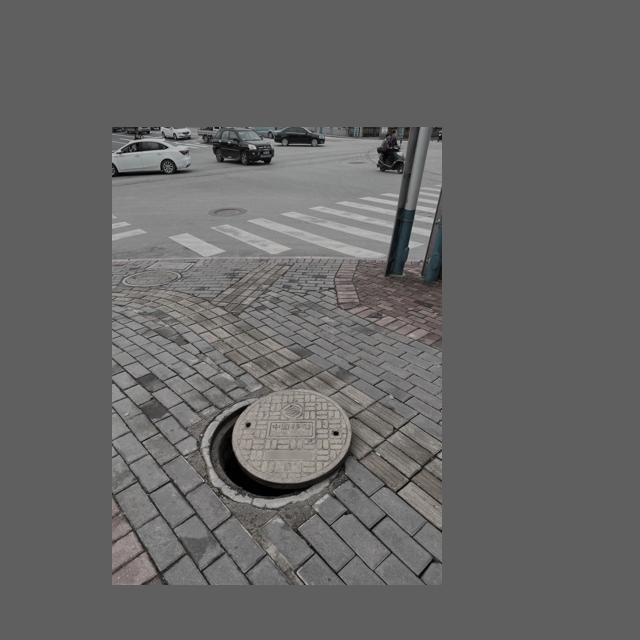uncovered: (200, 388, 352, 508)
